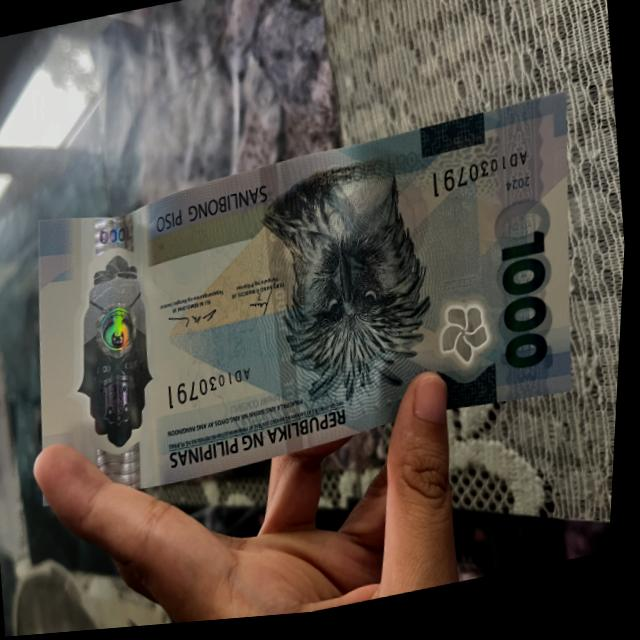clear_window: (55, 260, 172, 470)
eagle: (253, 153, 441, 427)
sampaguita: (424, 261, 504, 380)
security_thread: (249, 154, 332, 460)
serial_number: (421, 147, 553, 208)
value_watermark: (85, 207, 149, 258)
